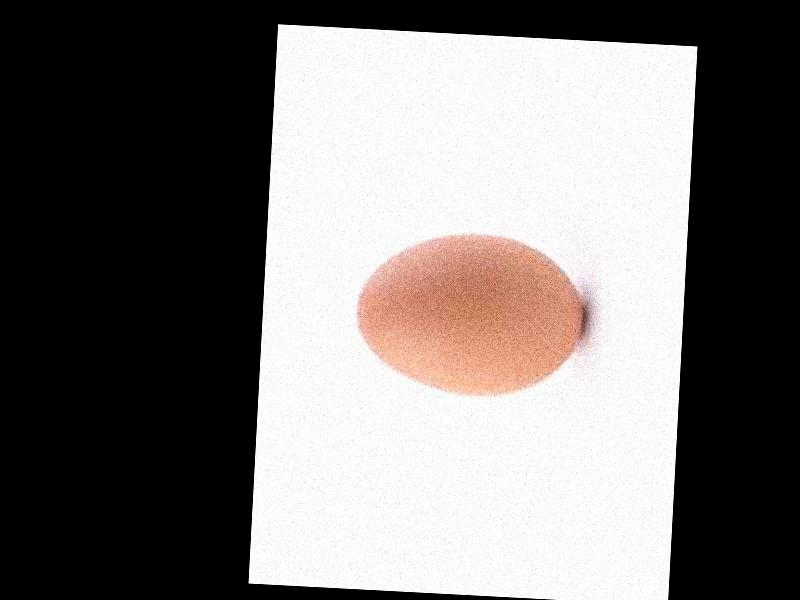Eggs: (351, 226, 586, 398)
